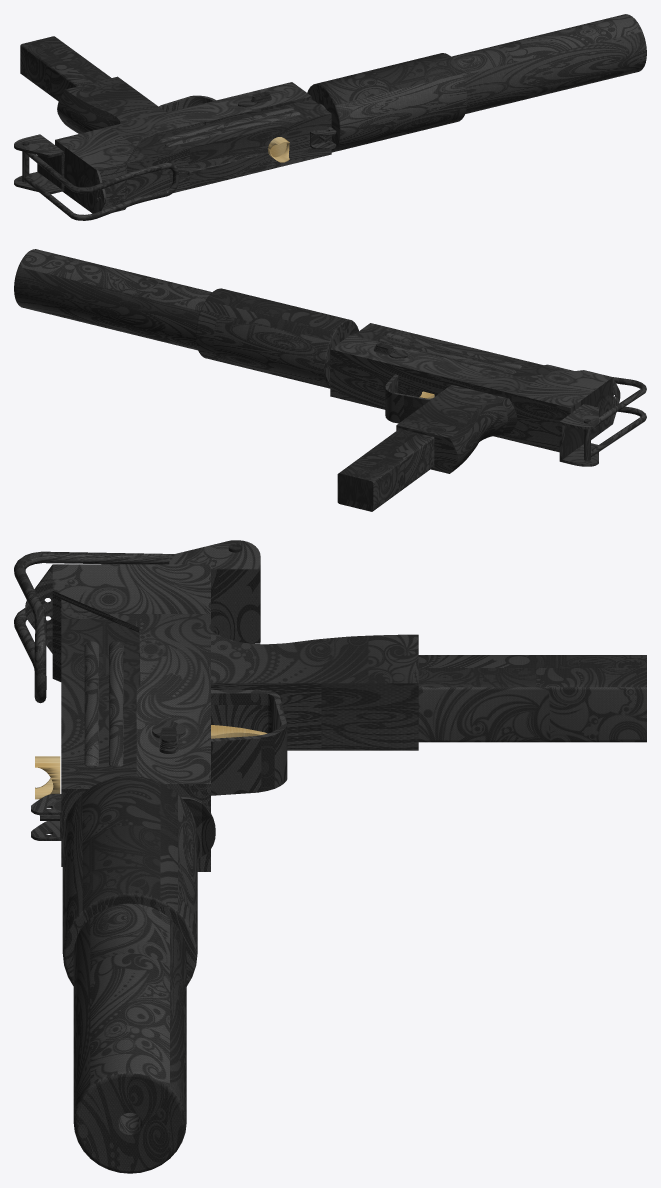
The model's file is Mac-10_World.dae.
The picture shows the model from 3 angles, top to bottom: view 1: azimuth 30°, elevation 25°; view 2: azimuth 150°, elevation 25°; view 3: azimuth 270°, elevation 25°; orthographic projection. The views are drawn at different scales.
Visible parts, largest first — view 1: Mac-10, Magazine, Charging Handle; view 2: Mac-10, Magazine; view 3: Mac-10, Magazine.
Part boxes in pixels (x1,y1,x2,y2): Mac-10: (14,14,646,220); Magazine: (20,36,111,101); Charging Handle: (268,137,289,162); Mac-10: (14,249,646,473); Magazine: (337,428,434,511); Mac-10: (14,540,418,1173); Magazine: (418,655,646,742).
Size of the model in its own units: 0.5734 by 0.2808 by 0.0598.
Materials: 2 (2 with a texture image).
